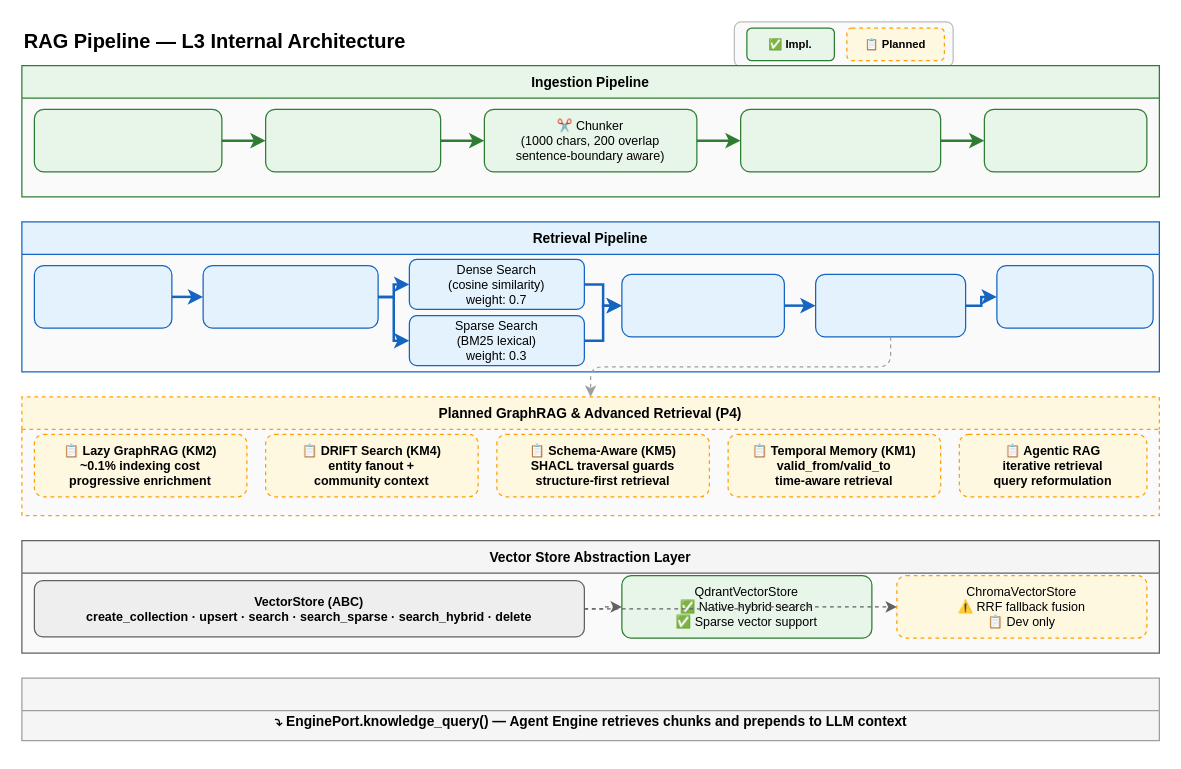
The diagram is 1181 pixels wide and 769 high, and some of its shapes have lost their labels. Here are the shapes that lost their labels. From the top down, the centre of each, then its label:
At (x=127, y=140): "📄 Document (PDF / DOCX / MD / TXT)".
At (x=352, y=140): "🔧 Parser (Docling engine)".
At (x=840, y=140): "🧮 Embedding (BGE-M3: Dense 1024-dim + Sparse lexical weights)".
At (x=1065, y=140): "💾 Vector Store (upsert: dense + sparse + payload metadata)".
At (x=102, y=296): "🔍 Query (user input)".
At (x=290, y=296): "🧮 Query Embedding (BGE-M3 encode_query)".
At (x=702, y=305): "⚡ RRF Fusion (k=60, Reciprocal Rank Fusion)".
At (x=890, y=305): "📋 Ranked Results (top-k chunks)".
At (x=1074, y=296): "📎 Citations (OpenAI-compatible kb_citation annotation)".
